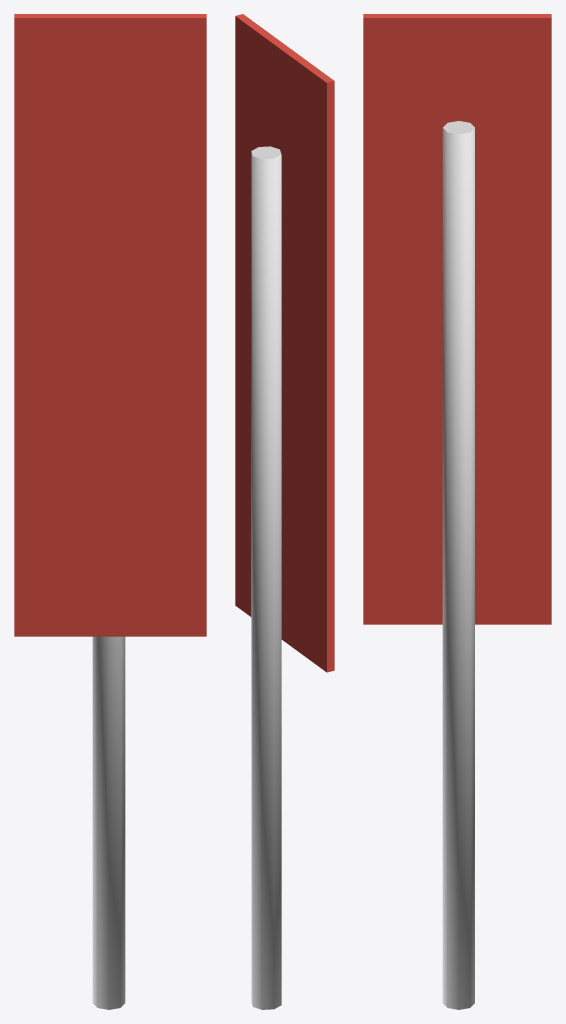
The picture shows the model from 3 angles, left to right: view 1: azimuth 90°, elevation 25°; view 2: azimuth 210°, elevation 25°; view 3: azimuth 270°, elevation 25°; orthographic projection. The views are drawn at different scales.
Parts seen in each view (by area): view 1: Ne3; view 2: Ne3; view 3: Ne3.
Boxes of the visible parts, box(x1,y1,x2,y2) form: Ne3: box(14, 14, 206, 1009); Ne3: box(235, 14, 334, 1009); Ne3: box(363, 14, 551, 1009).
Size of the model in its own units: 0.1358 by 3.35 by 0.5856.
